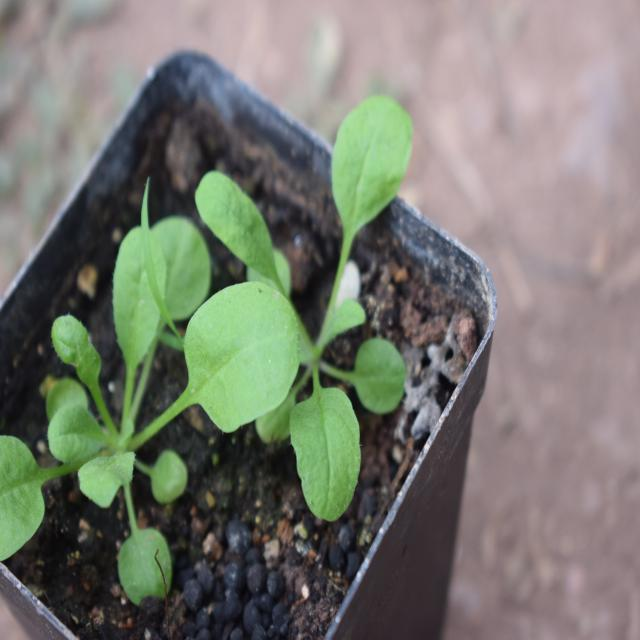Shepherd_Purse: (208, 92, 431, 467), (0, 250, 215, 584)
